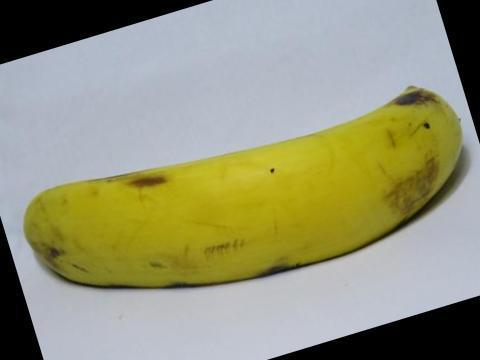freshripe: (7, 66, 479, 306)
